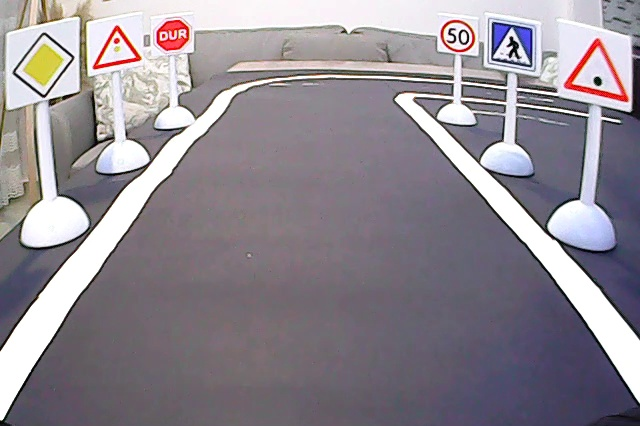green light: (566, 26, 629, 105)
pedestrian crossing: (489, 18, 539, 71)
red light: (92, 22, 143, 73)
speed limit 50: (438, 16, 478, 56)
stop sign: (155, 16, 195, 52)
